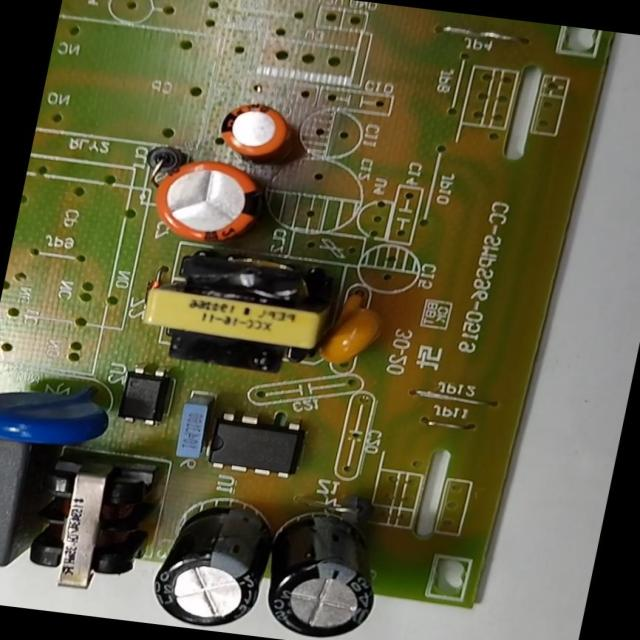Cap1: (136, 154, 272, 253)
Cap2: (200, 90, 305, 167)
Cap3: (138, 504, 278, 634)
Cap4: (252, 515, 390, 639)
MOSFET: (190, 399, 318, 486)
Mov: (0, 383, 112, 456)
Transformer: (132, 241, 345, 385), (10, 448, 171, 605)
